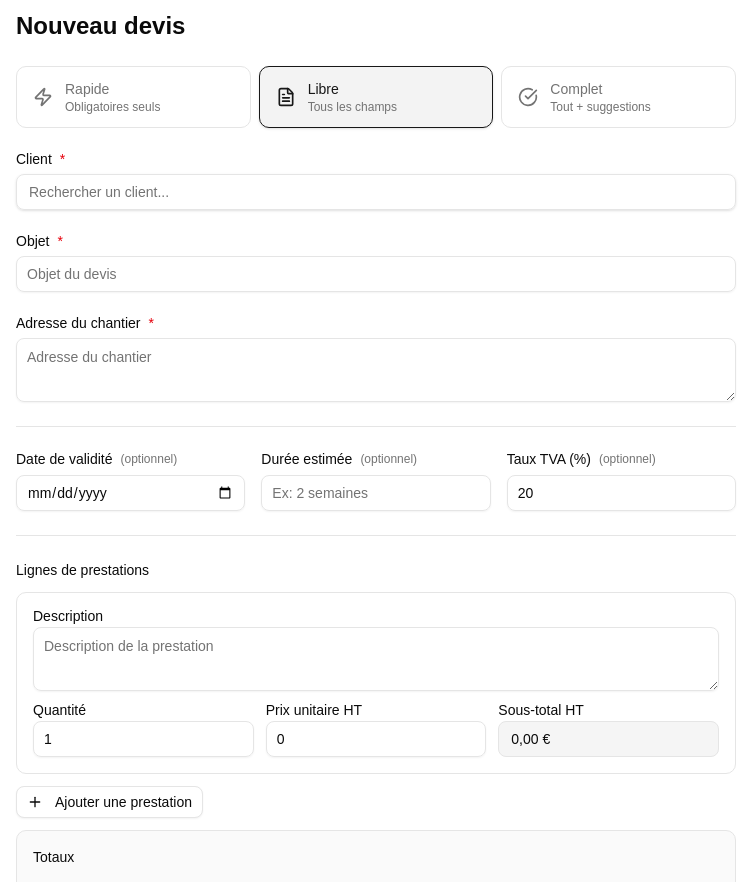
Test case: CreateDevisForm › bouton "Renseigner plus" bascule en mode Libre
This screenshot has width=753, height=882.
Click the text "Rapide". click: {"x": 87, "y": 89}
box: top-left (65, 81), bottom-right (109, 97)
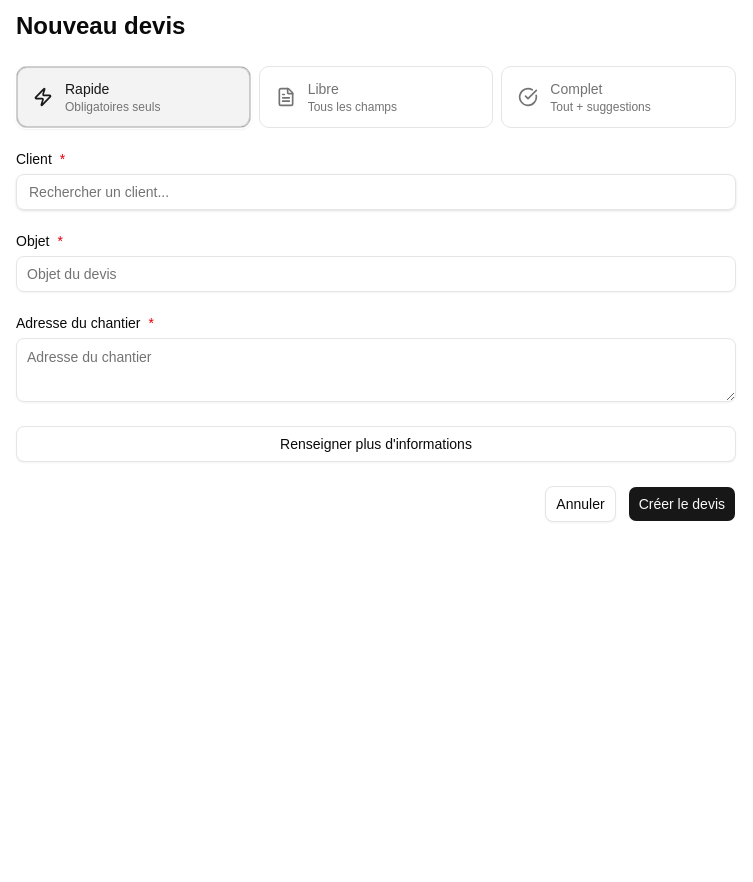
expect the heading "Lignes de prestations" is gone: met
Click the button "Renseigner plus d'informations". click: {"x": 376, "y": 444}
box: top-left (16, 426), bottom-right (736, 462)
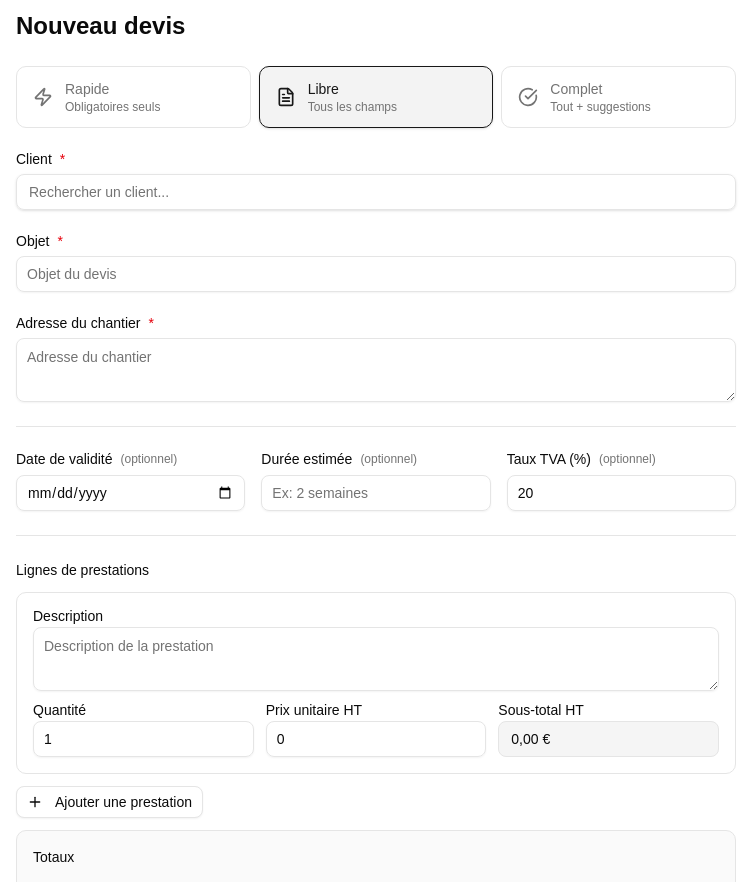
expect the heading "Lignes de prestations" is shown: met, box top-left (16, 562), bottom-right (149, 578)
